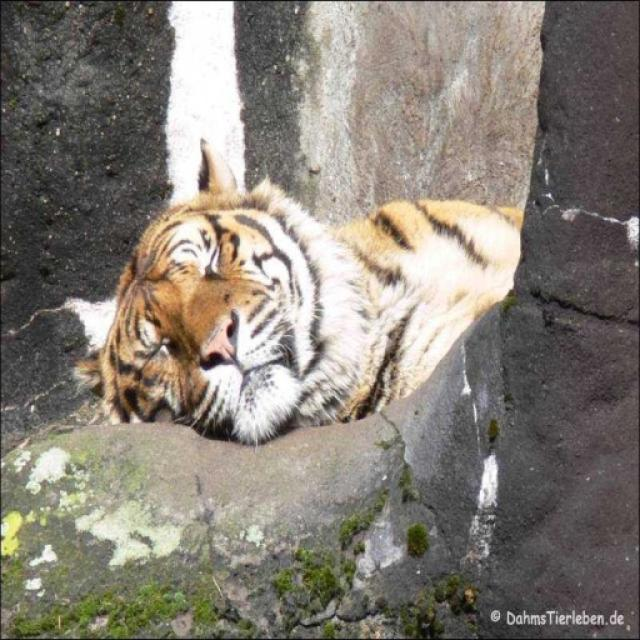tiger: (73, 137, 524, 445)
